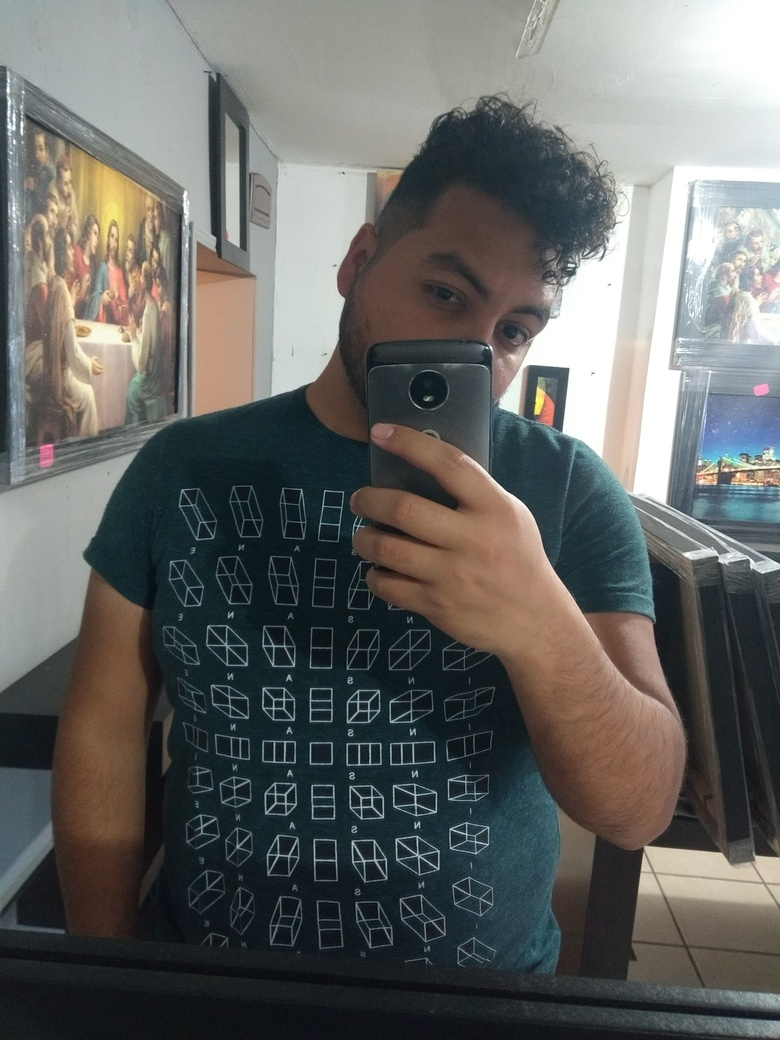Yoshi: (295, 71, 668, 465)
